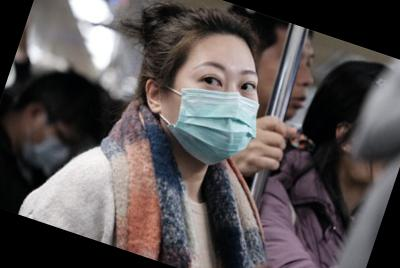with_mask: (149, 44, 277, 179), (15, 116, 84, 183)
without_mask: (244, 34, 326, 128)
